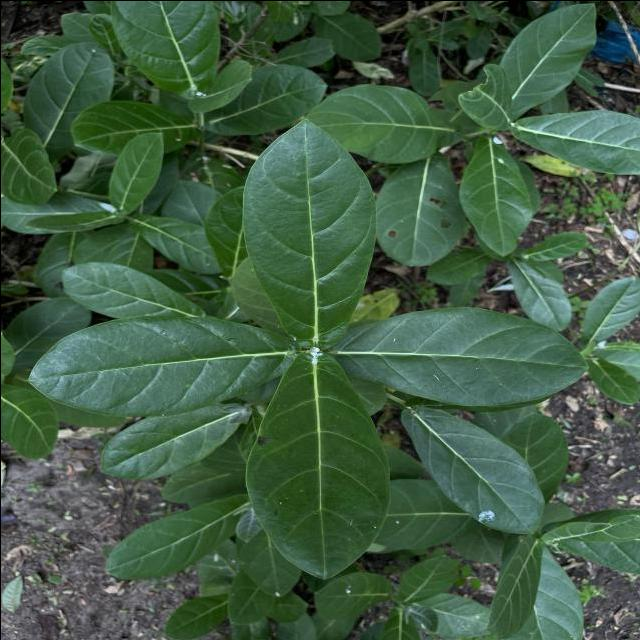Calotropis gigantea: (242, 351, 392, 581), (239, 116, 379, 340), (24, 313, 300, 418), (335, 303, 590, 407), (398, 403, 546, 535), (102, 494, 244, 582), (303, 82, 452, 165), (494, 0, 597, 117), (97, 400, 246, 480), (20, 40, 114, 152), (372, 150, 461, 268), (456, 134, 534, 255), (508, 108, 640, 176), (58, 260, 202, 318), (505, 258, 572, 332), (107, 129, 164, 213), (578, 274, 640, 351), (0, 125, 59, 204)
